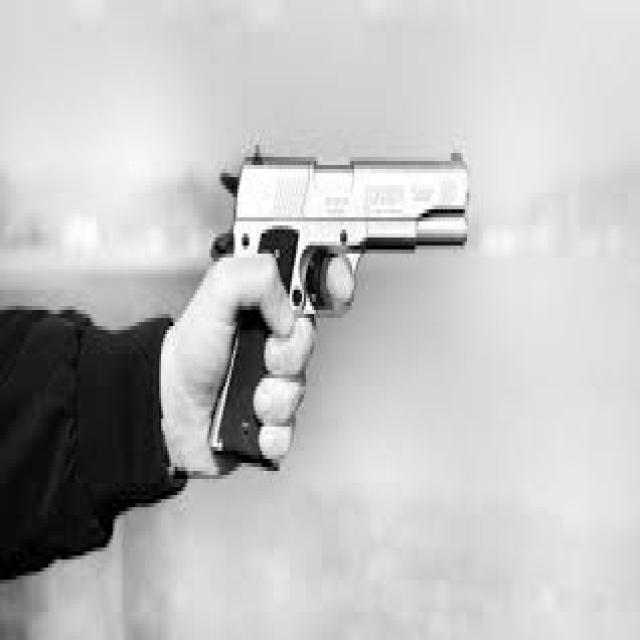gun: (170, 85, 496, 522)
